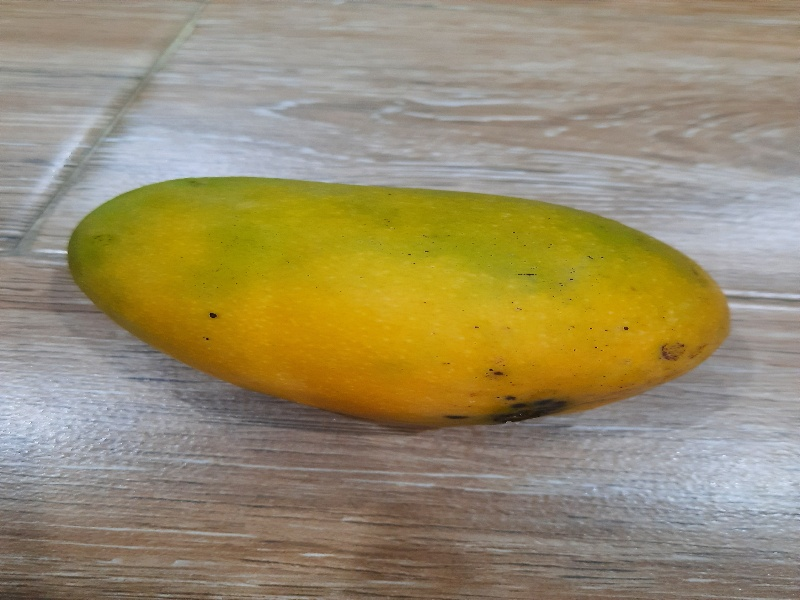fruit: (60, 161, 736, 436)
